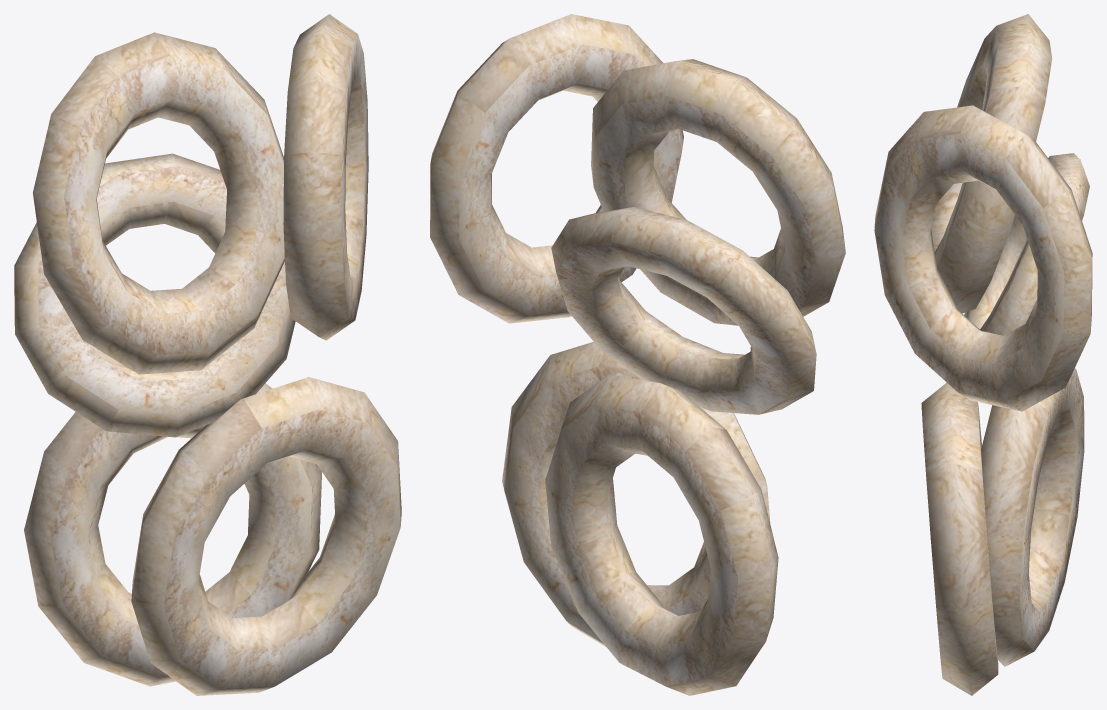
Rendered from OnionRingInHolder.fbx.
3 views of the same model, side by side, from view 1: azimuth 30°, elevation 25°; view 2: azimuth 150°, elevation 25°; view 3: azimuth 270°, elevation 25° (orthographic). The views are drawn at different scales.
Parts seen in each view (by area): view 1: OnionRingInHolder; view 2: OnionRingInHolder; view 3: OnionRingInHolder.
Boxes of the visible parts, <box> form: OnionRingInHolder: <box>14,14,401,695</box>; OnionRingInHolder: <box>430,14,845,695</box>; OnionRingInHolder: <box>874,14,1092,695</box>.
Size of the model in its own units: 13.43 by 22.53 by 7.19.
